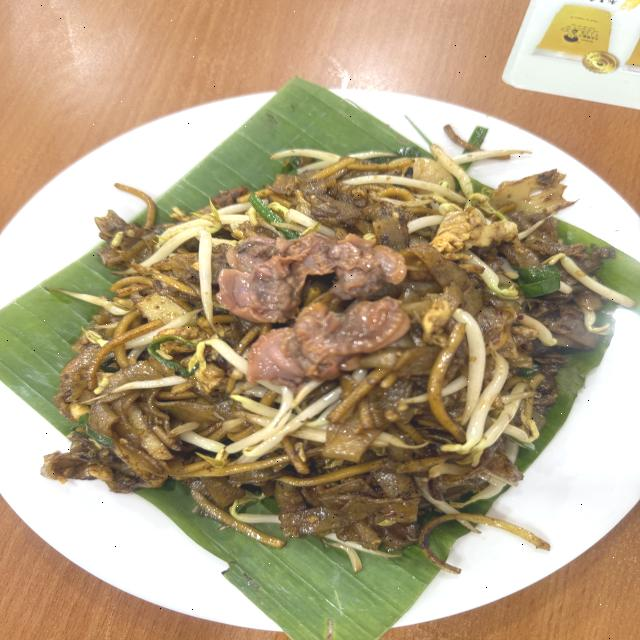Char Kway Teow: (42, 85, 586, 602)
